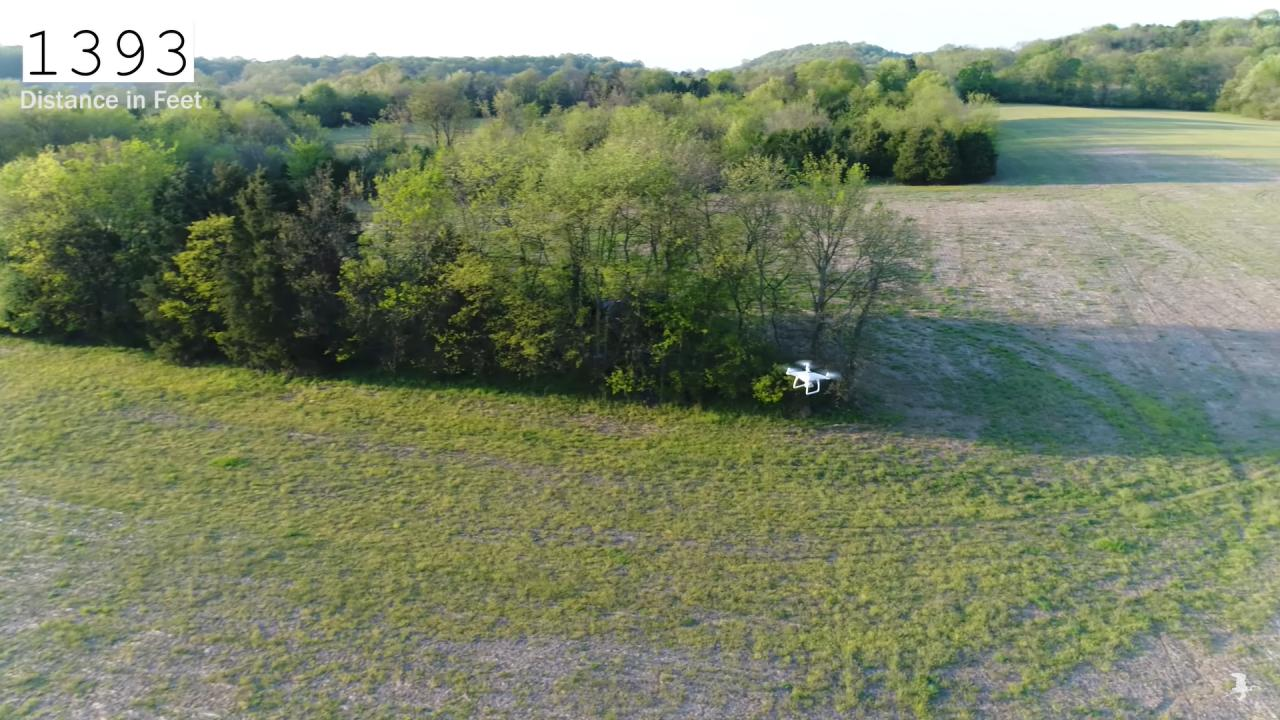Drone: (761, 349, 846, 408)
